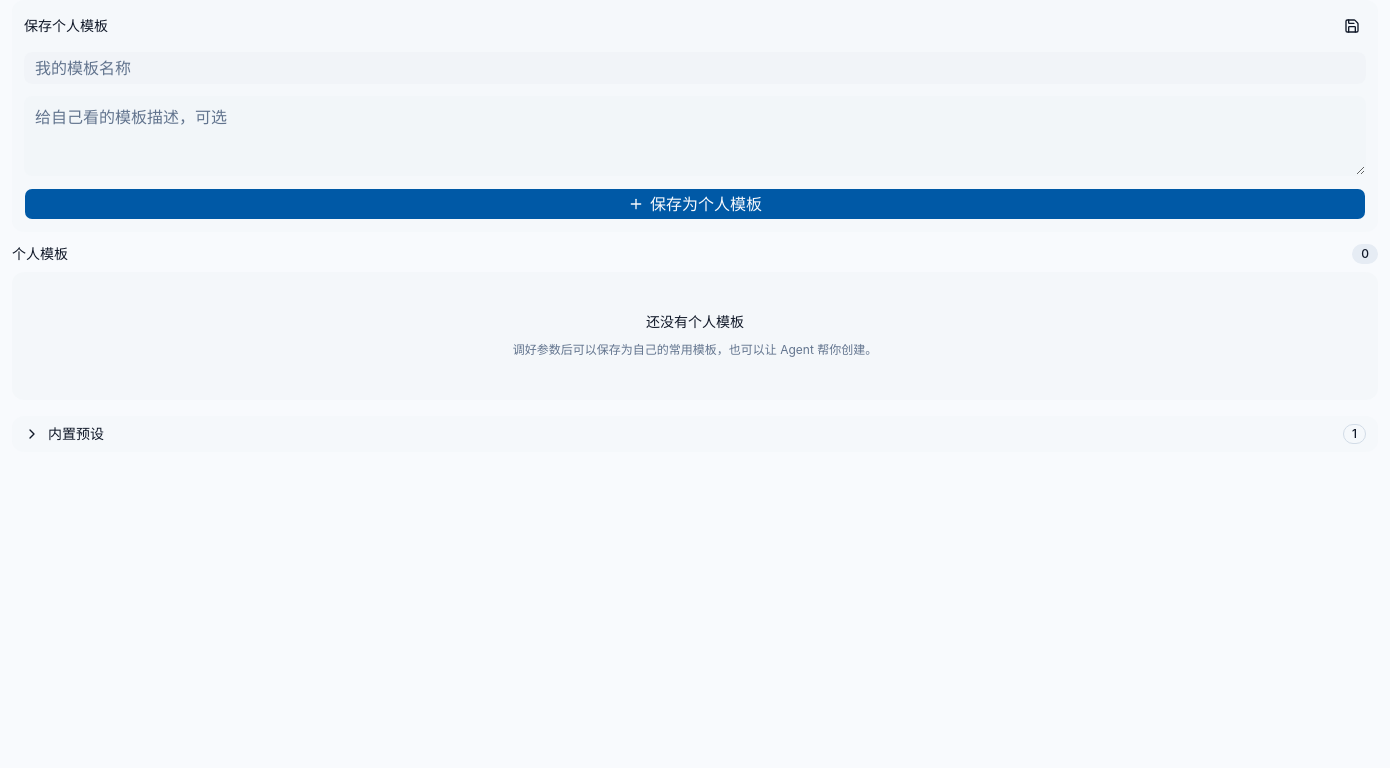
Test: SidebarTemplates › keeps system templates collapsed by default and expands them on demand
Expected: the text "个人头像预设" is not shown
Click the button "内置预设 1" at coordinates (76, 434), box [12, 416, 1378, 452]
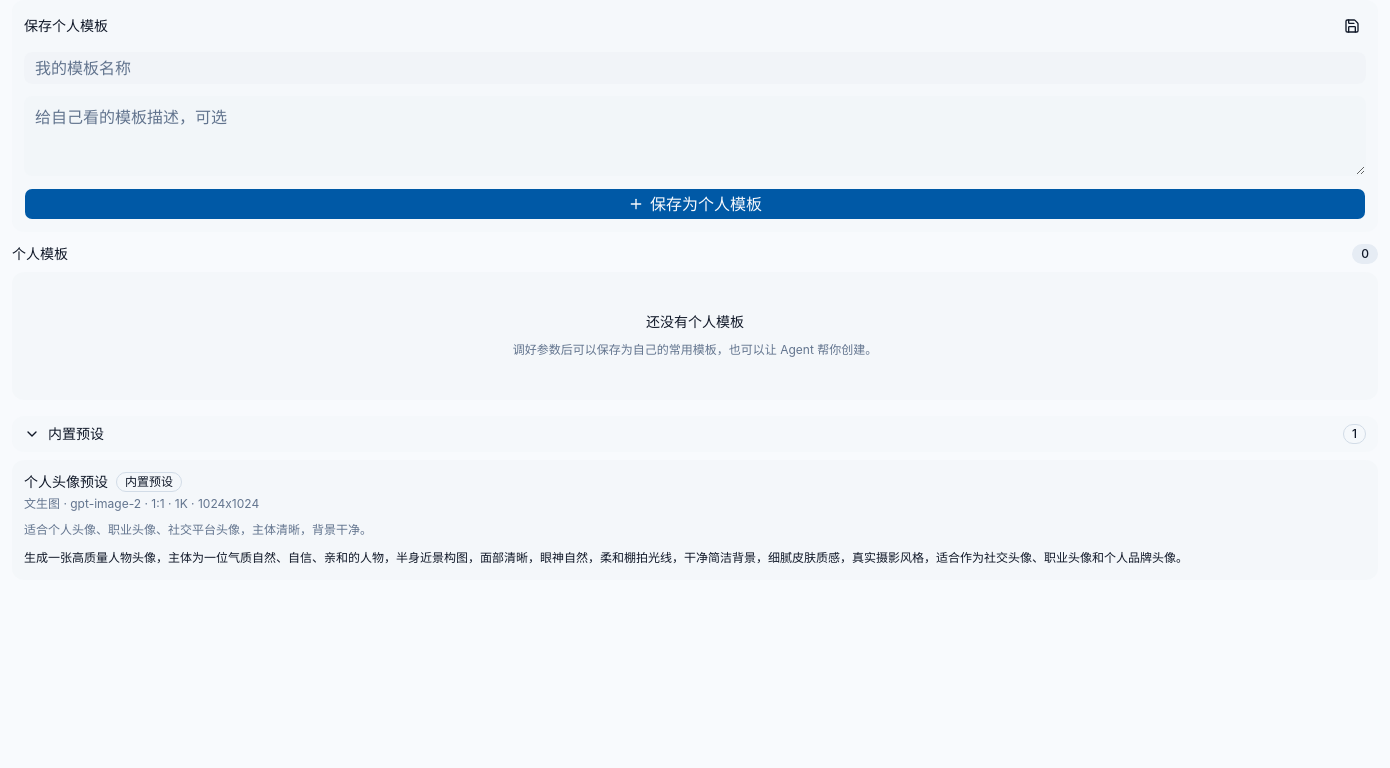
Expected: the text "内置预设" is shown, [24, 424, 104, 444]
Expected: the heading "个人头像预设" is shown, [24, 472, 108, 492]
